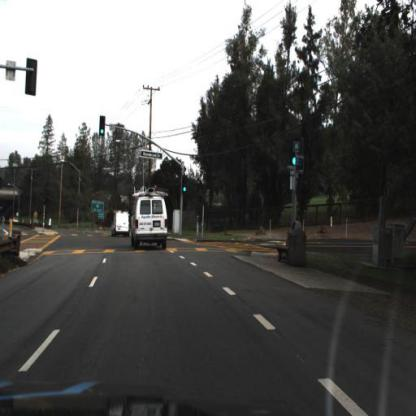car: (131, 191, 171, 248), (112, 209, 131, 241)
trafficLight-Green: (98, 112, 110, 141), (178, 181, 190, 200), (182, 170, 190, 198), (288, 156, 300, 172), (290, 150, 299, 170)
